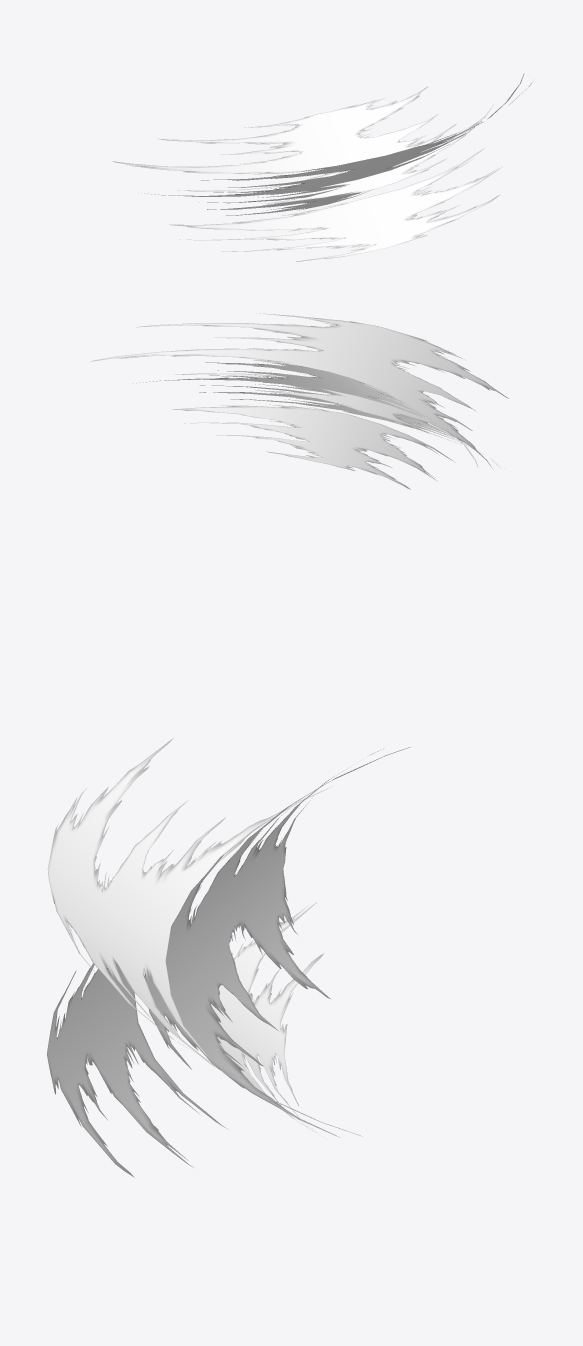
The model's file is eff_tun002_mesh.fbx.
3 views of the same model, one above another, from view 1: azimuth 30°, elevation 25°; view 2: azimuth 150°, elevation 25°; view 3: azimuth 270°, elevation 25° (orthographic). The views are drawn at different scales.
Parts seen in each view (by area): view 1: eff_tun002_mesh; view 2: eff_tun002_mesh; view 3: eff_tun002_mesh.
Boxes of the visible parts, x1=… form: eff_tun002_mesh: x1=112, y1=73, x2=532, y2=261; eff_tun002_mesh: x1=91, y1=313, x2=508, y2=489; eff_tun002_mesh: x1=47, y1=738, x2=410, y2=1177.
Size of the model in its own units: 558 by 96 by 221.
